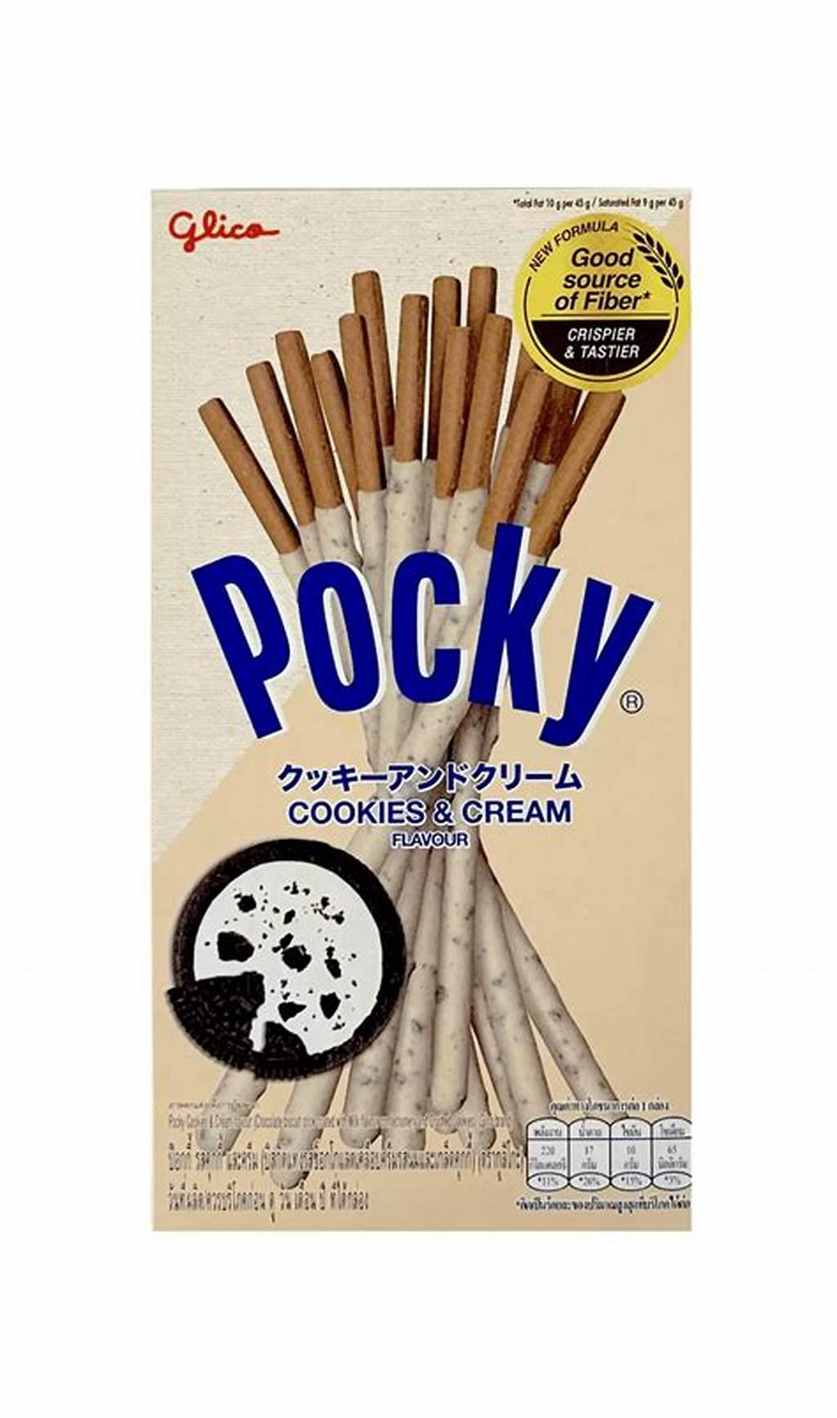Kertas: (155, 184, 695, 1235)
